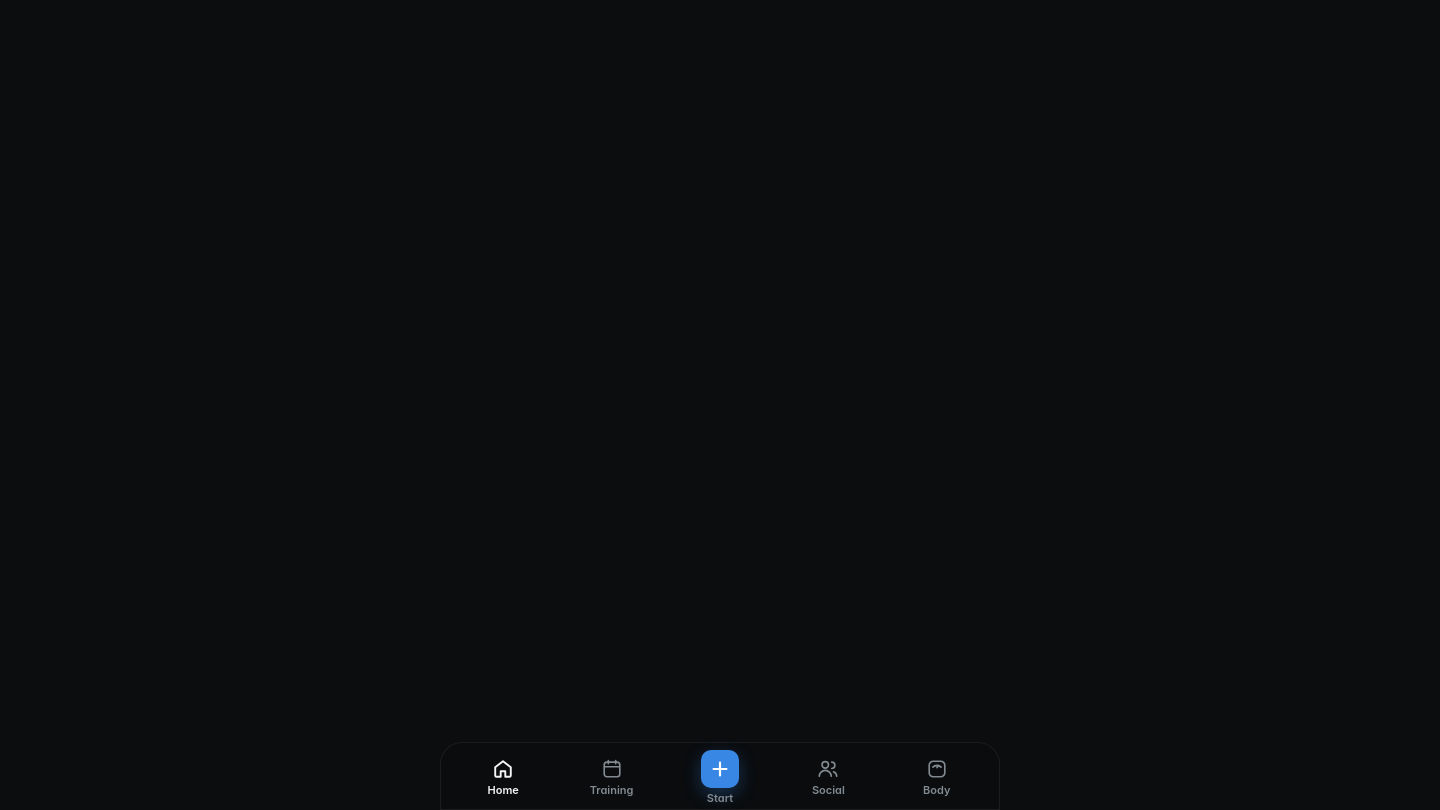
Start menu › opens the choices instead of starting a workout straight away
Click the button with class "app-tab-start" at (720, 778), box [666, 750, 774, 805]
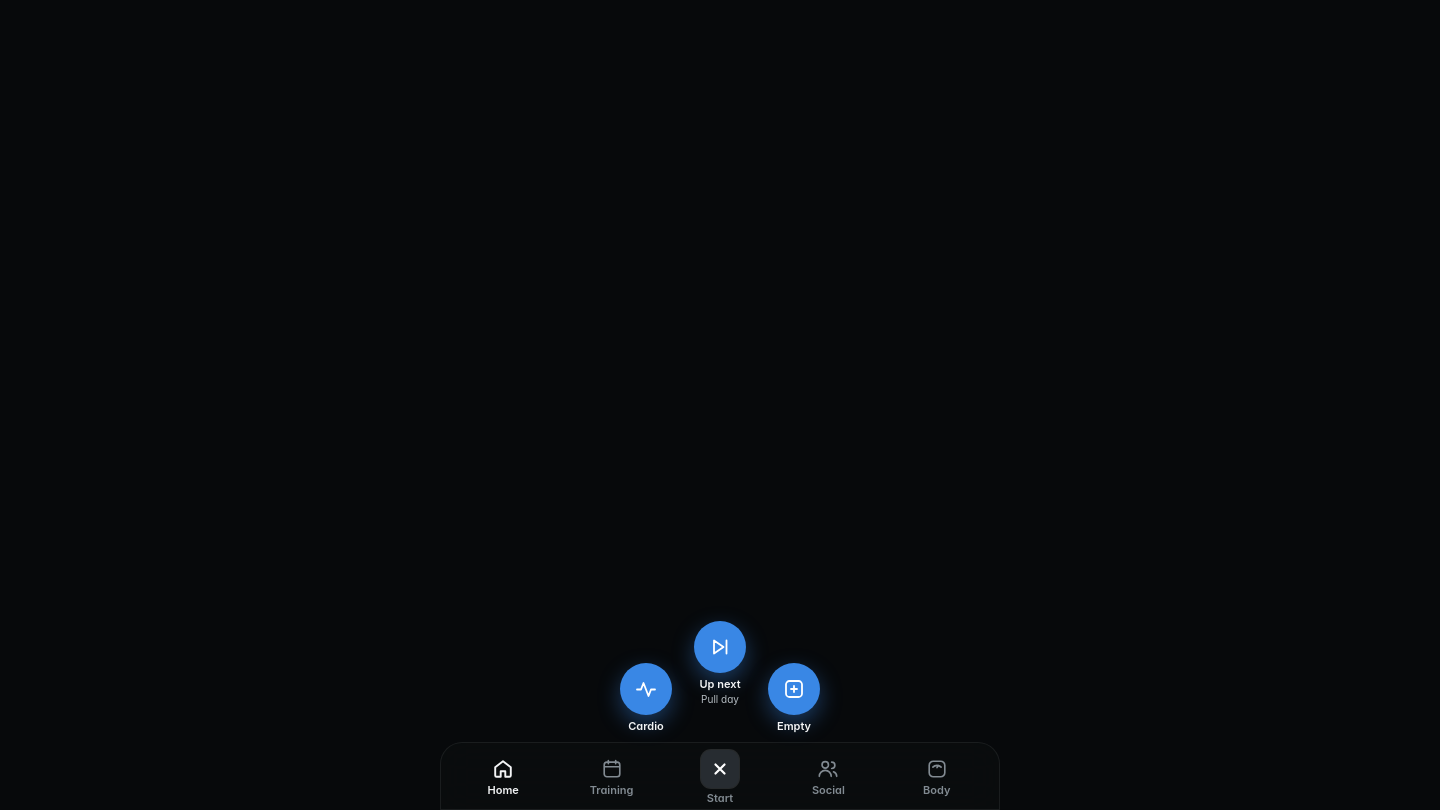
Now the button with class "app-tab-start" is expanded, box [666, 750, 774, 805]
